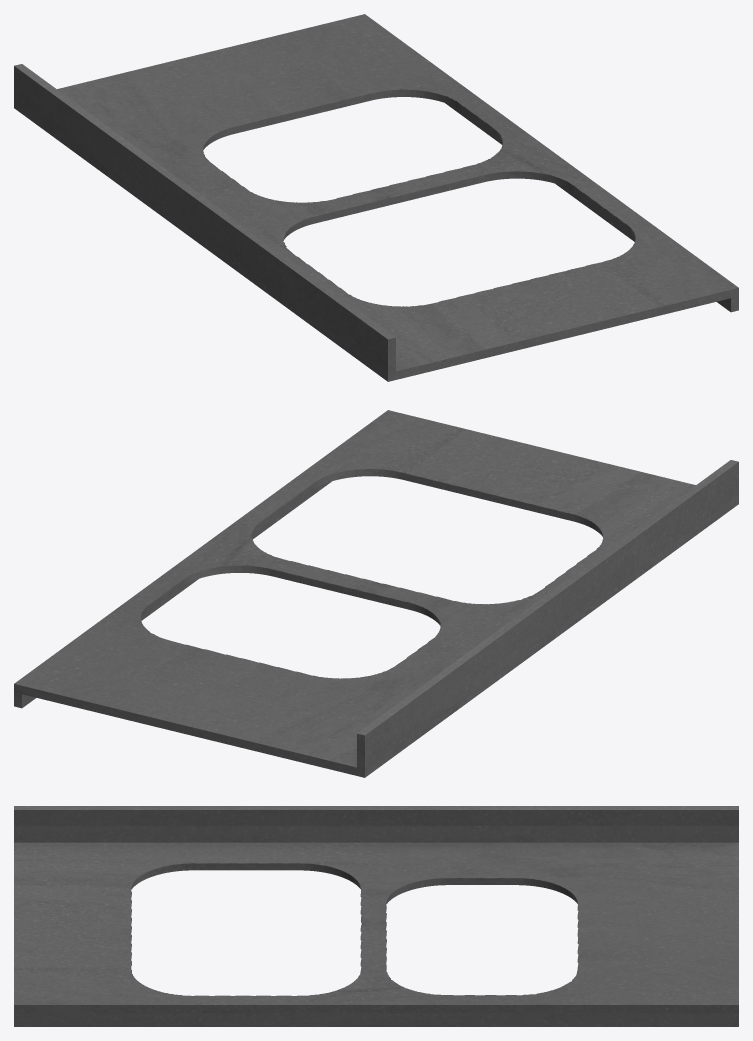
The model's file is Top_503HD_Corian 1.FBX.
The picture shows the model from 3 angles, top to bottom: view 1: azimuth 30°, elevation 25°; view 2: azimuth 150°, elevation 25°; view 3: azimuth 270°, elevation 25°; orthographic projection. The views are drawn at different scales.
Visible parts, largest first — view 1: Top_503HD_ArchitectMerged; view 2: Top_503HD_ArchitectMerged; view 3: Top_503HD_ArchitectMerged.
Boxes of the visible parts, <box> form: Top_503HD_ArchitectMerged: <box>14,14,738,381</box>; Top_503HD_ArchitectMerged: <box>14,410,738,777</box>; Top_503HD_ArchitectMerged: <box>14,806,738,1026</box>.
Bounding box in the file's own units: 6.5 × 1 × 12.
Materials: 1 (1 with a texture image).
